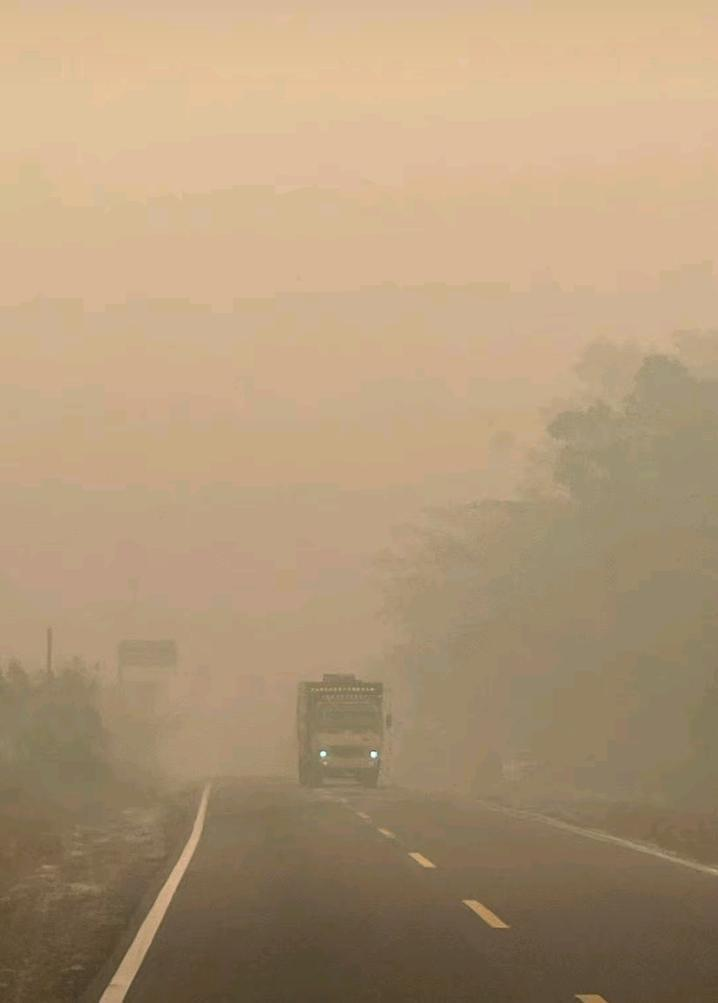Deteksi-Objek-Citra-Berasap: (0, 0, 718, 800)
Kendaraan: (294, 673, 392, 790)
Vegetasi: (390, 341, 718, 828), (0, 653, 174, 827)
